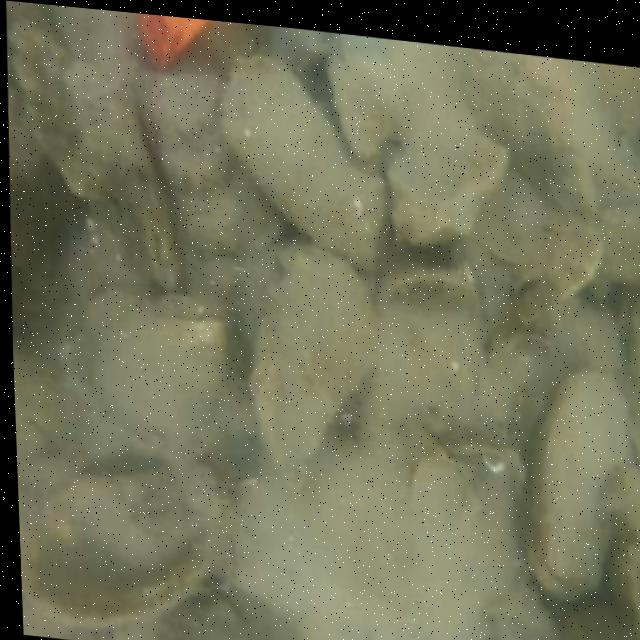Oyster-Indeterminate: (20, 461, 235, 634), (218, 56, 382, 270), (253, 245, 371, 482), (149, 74, 274, 252), (97, 315, 228, 462), (535, 373, 628, 579), (326, 32, 466, 162), (387, 100, 509, 245)
